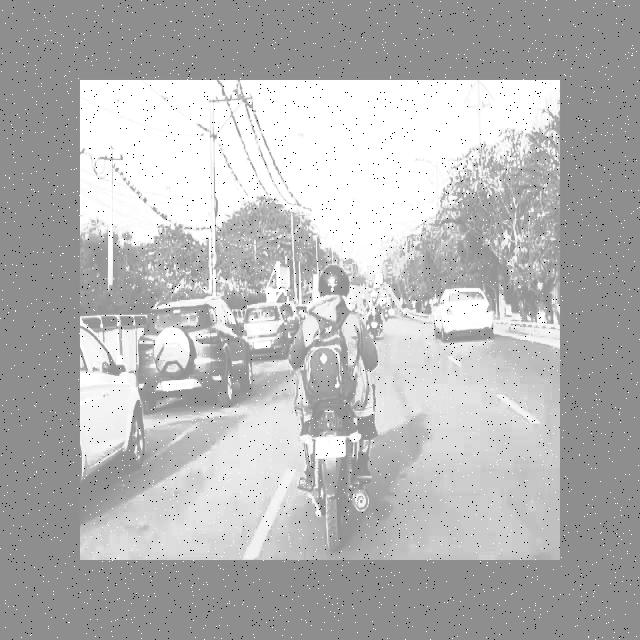Bike: (286, 273, 382, 560)
Car: (134, 288, 258, 410), (82, 312, 155, 502), (424, 279, 505, 349), (239, 291, 306, 365)
